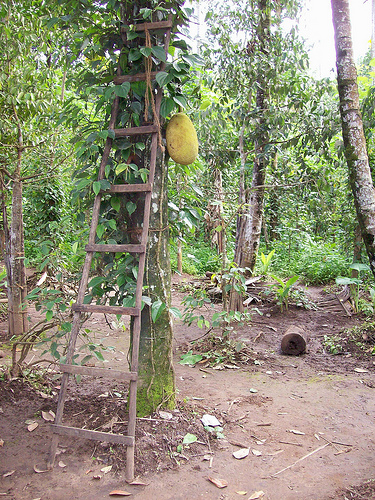jackfruit: (165, 106, 198, 163)
